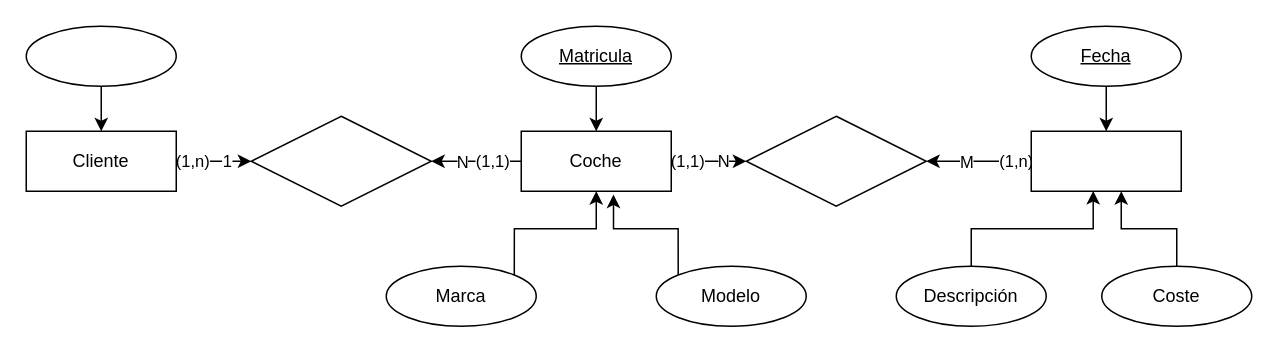
Image size: 1278x353. Some labels were removed from this diagram. The shapes that lost their labels are listed below. From the top down, each one's centre as x and y in pixels, then its label:
At [100,55]: "DNI".
At [340,160]: "Pertenece".
At [835,160]: "Tiene".
At [1105,160]: "Reparación".
